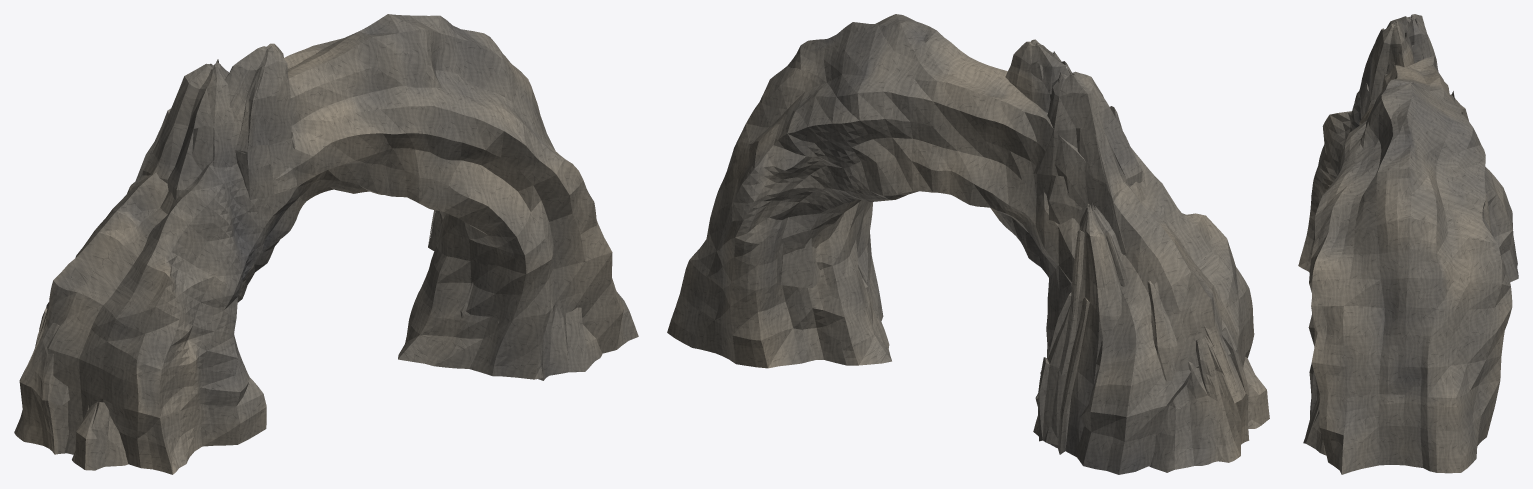
3 views of the same model, side by side, from view 1: azimuth 30°, elevation 25°; view 2: azimuth 150°, elevation 25°; view 3: azimuth 270°, elevation 25° (orthographic). The views are drawn at different scales.
Parts seen in each view (by area): view 1: F14_stone; view 2: F14_stone; view 3: F14_stone.
Part boxes in pixels (x1,y1,x2,y2): F14_stone: [14, 14, 638, 474]; F14_stone: [667, 14, 1269, 474]; F14_stone: [1298, 14, 1518, 474].
Size of the model in its own units: 25.55 by 15.36 by 9.81.
1 material, 1 textured.
